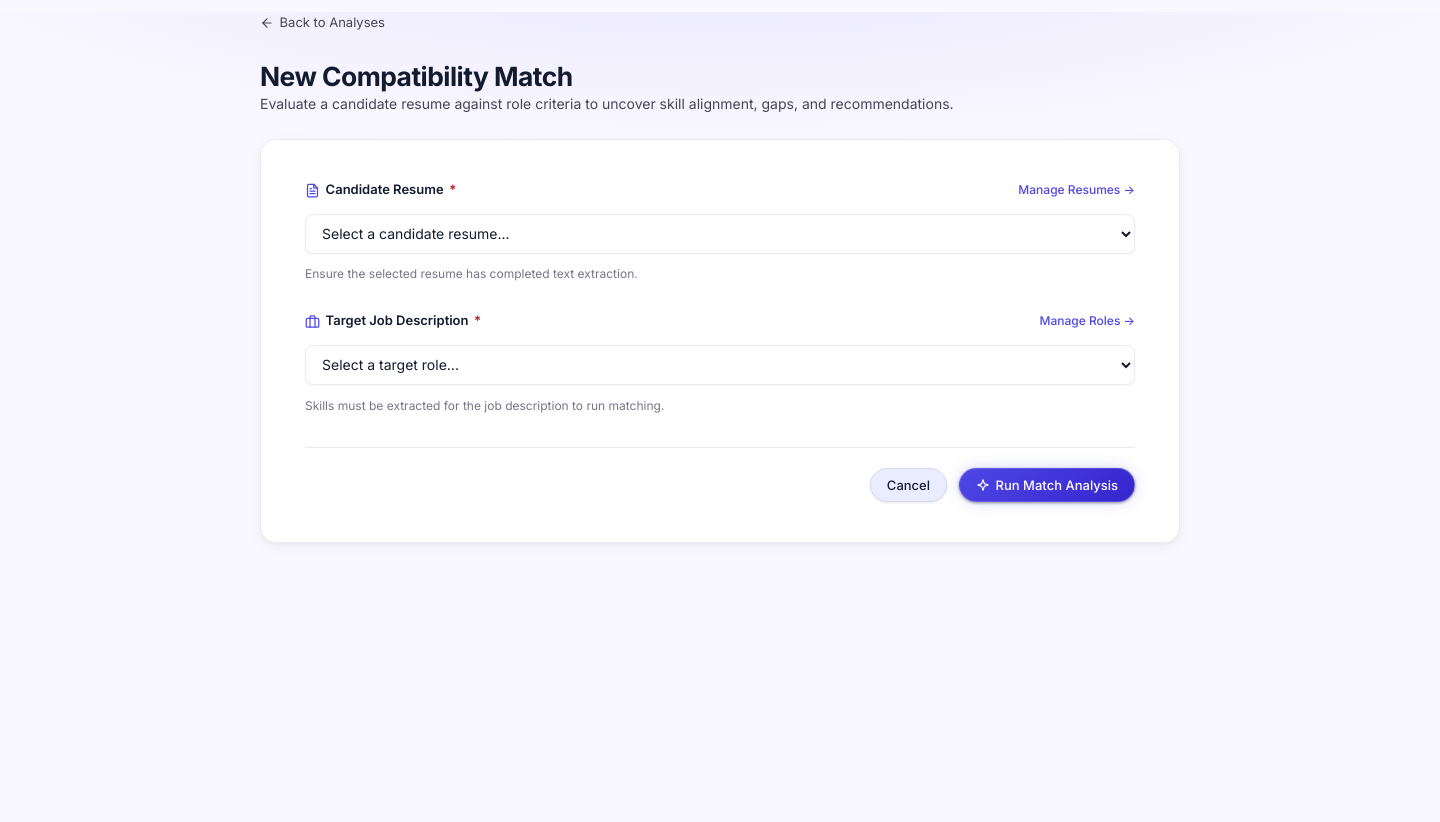
Test: Stage 5: Analysis Creation, Results & Recommendations Suite › 10. Analysis creation API failure: displays server error inside creation form
Select "resume.pdf (Ready)" in the dropdown with test id "resume-select". click: (720, 234)
box: [305,214,1135,254]
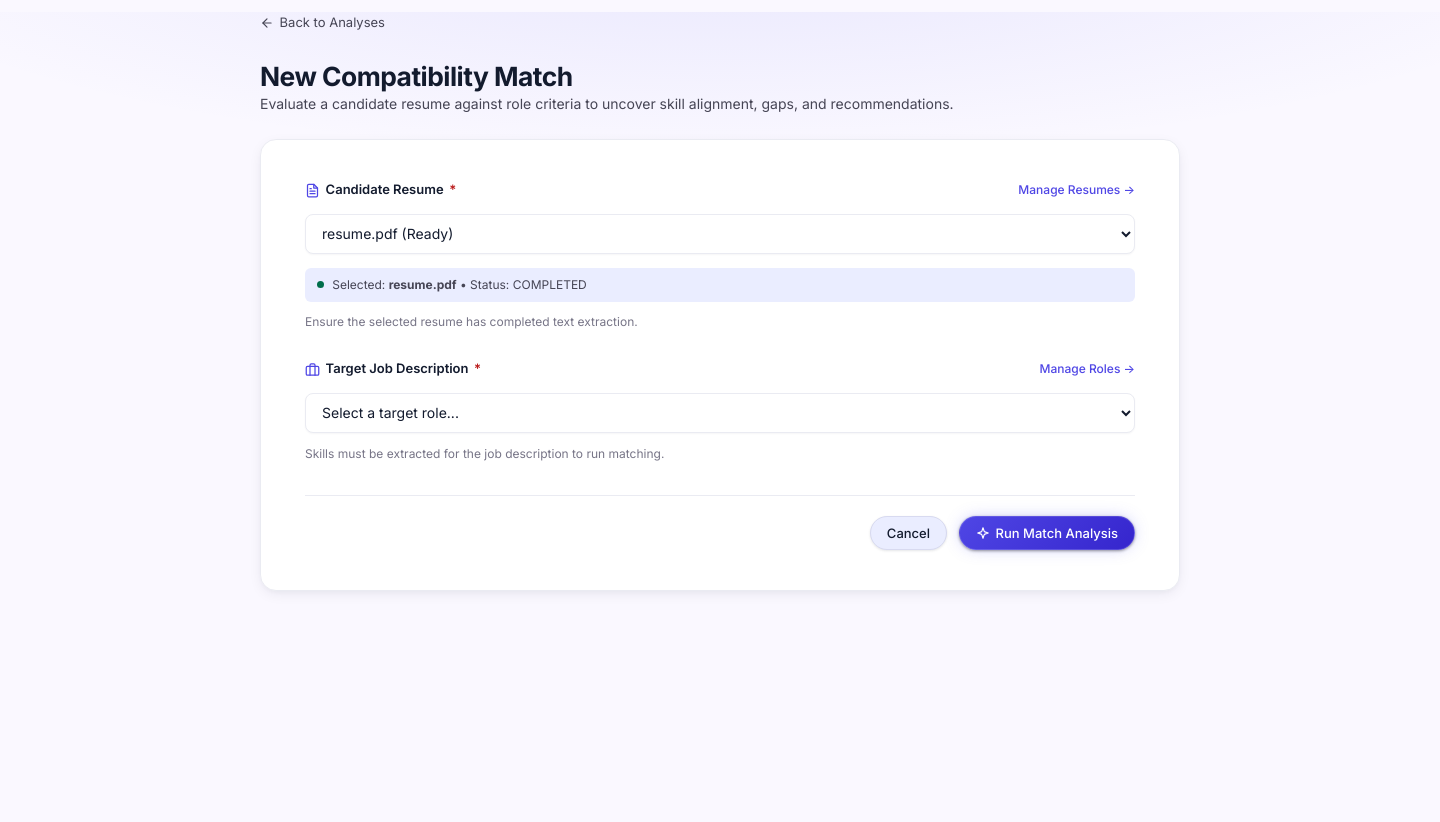
Select "Senior Backend Engineer" in the dropdown with test id "job-select". click: (720, 413)
box: [305,393,1135,433]
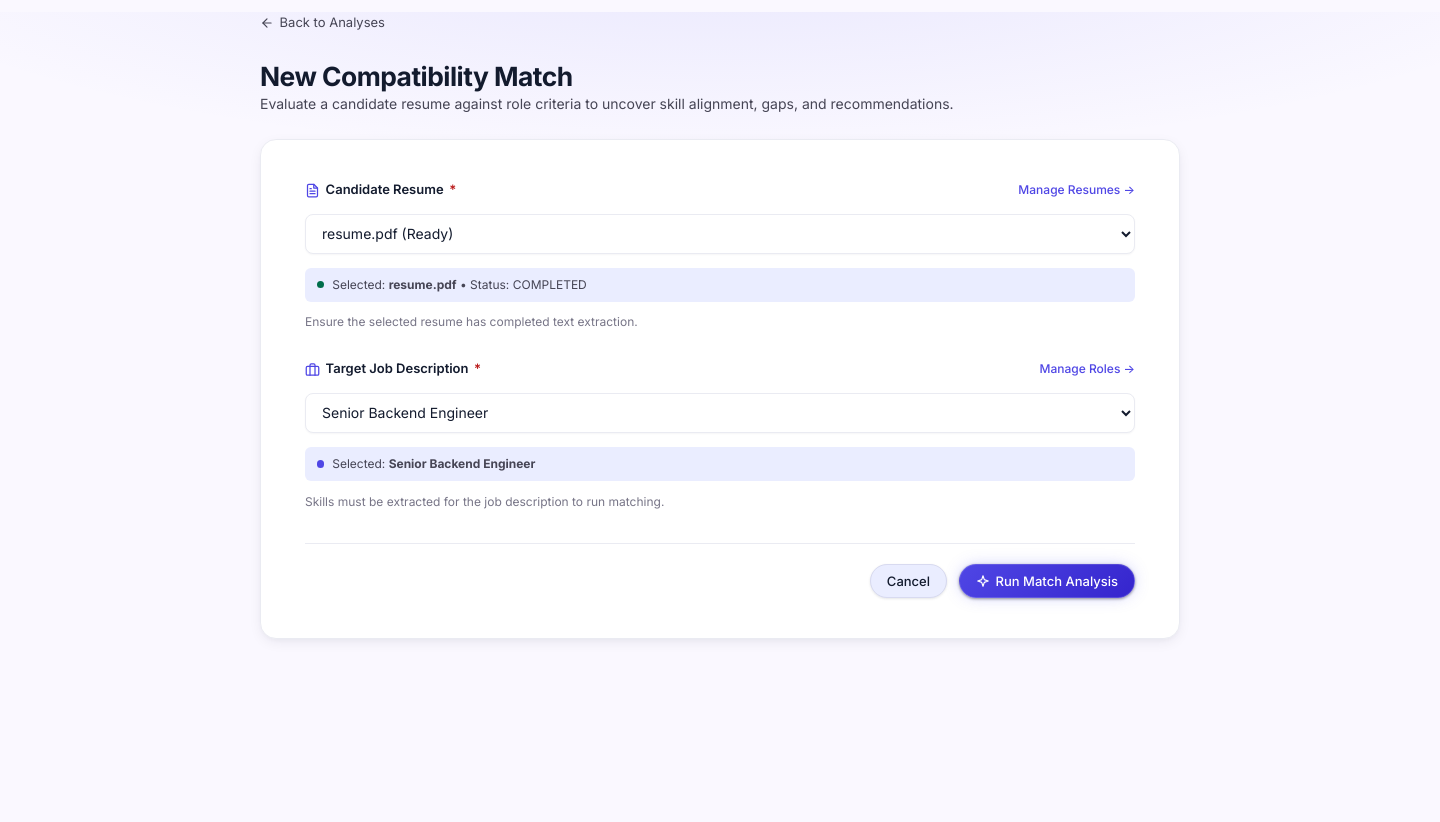
Click the button with test id "start-analysis-btn". click: (1047, 581)
box: [959,564,1135,598]
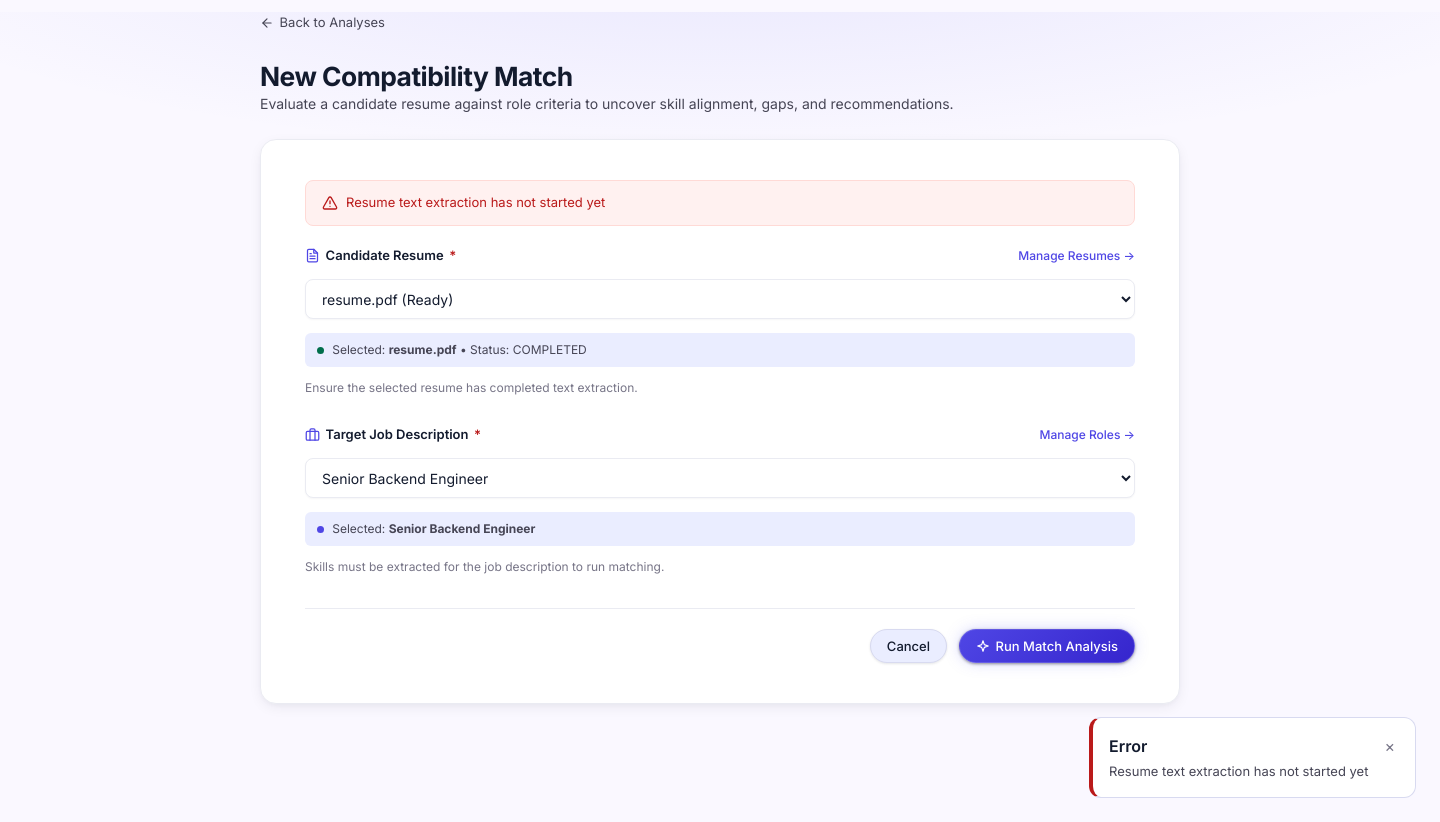
expect the message with test id "create-analysis-error" reads "Resume text extraction has not started yet": met, box [346,194,605,210]
